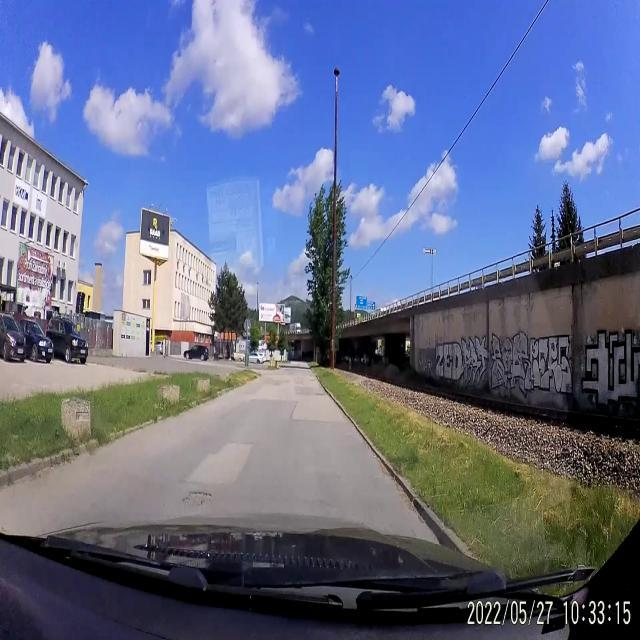Pothole: (181, 482, 214, 511)
